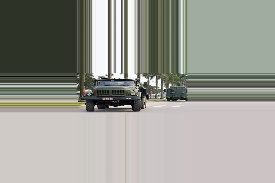plate: (100, 97, 114, 101)
